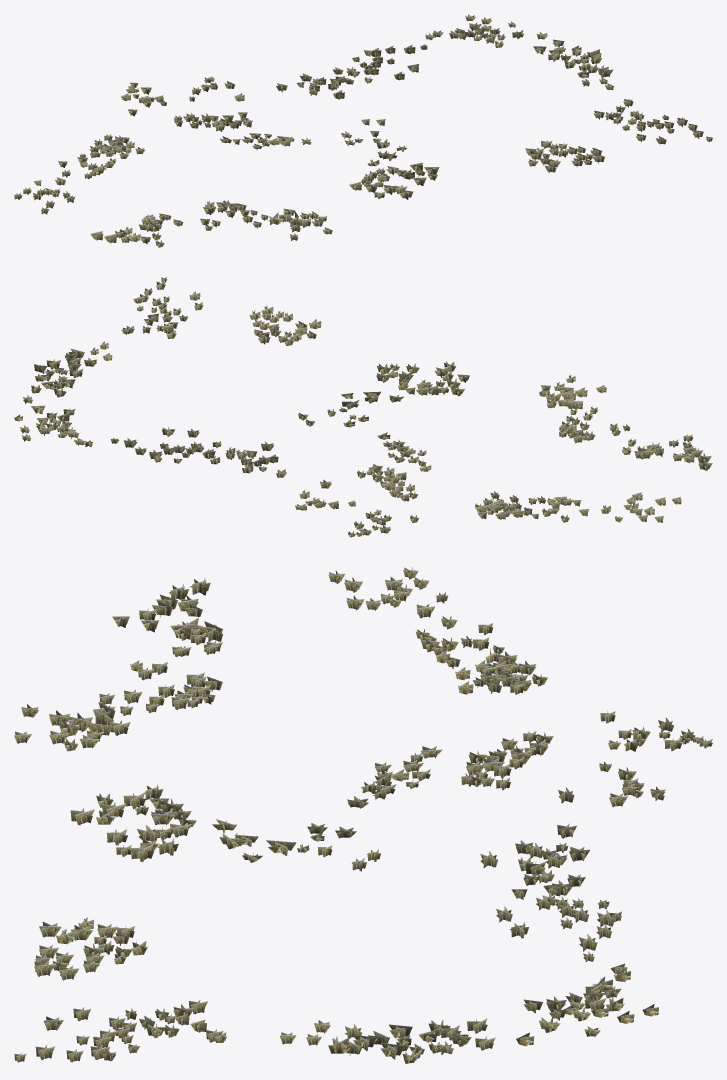
The model's file is Bf01g_grass_1v1_add_a.fbx.
The picture shows the model from 3 angles, top to bottom: view 1: azimuth 30°, elevation 25°; view 2: azimuth 150°, elevation 25°; view 3: azimuth 270°, elevation 25°; orthographic projection. The views are drawn at different scales.
Visible parts, largest first — view 1: Bf01g_grass_1v1_add_a; view 2: Bf01g_grass_1v1_add_a; view 3: Bf01g_grass_1v1_add_a.
Part boxes in pixels (left/top/right/bottom): Bf01g_grass_1v1_add_a: left=14, top=14, right=712, bottom=247; Bf01g_grass_1v1_add_a: left=14, top=277, right=712, bottom=537; Bf01g_grass_1v1_add_a: left=14, top=567, right=712, bottom=1063.
Bounding box in the file's own units: 178 × 2.17 × 107.
Materials: 1 (1 with a texture image).
